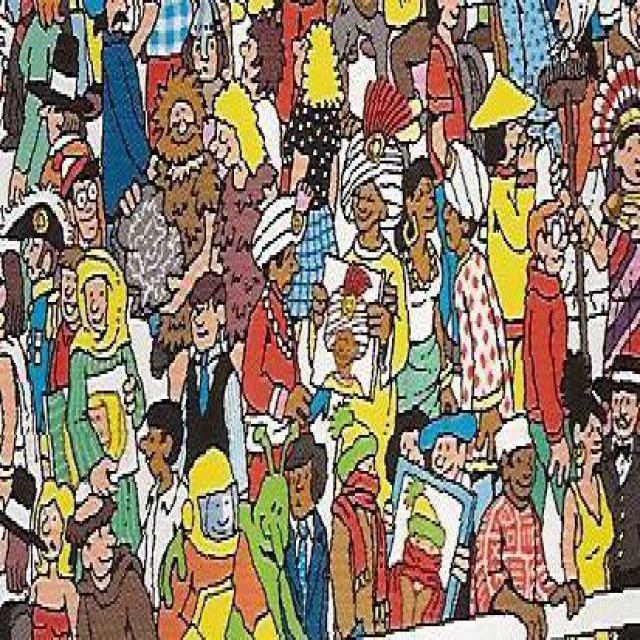waldo: (53, 150, 99, 241)
